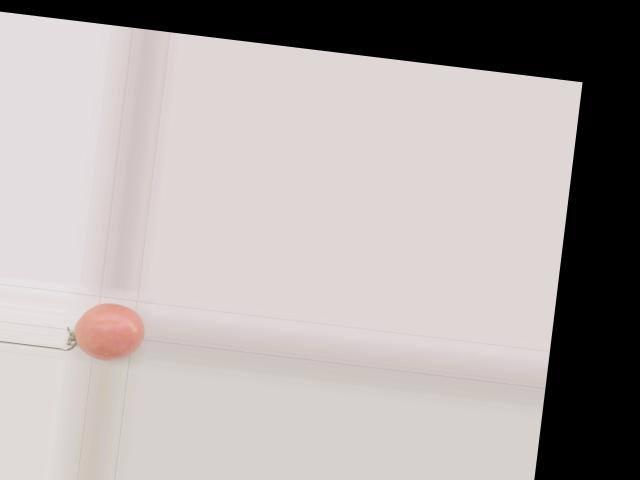tomato: (70, 299, 147, 364)
